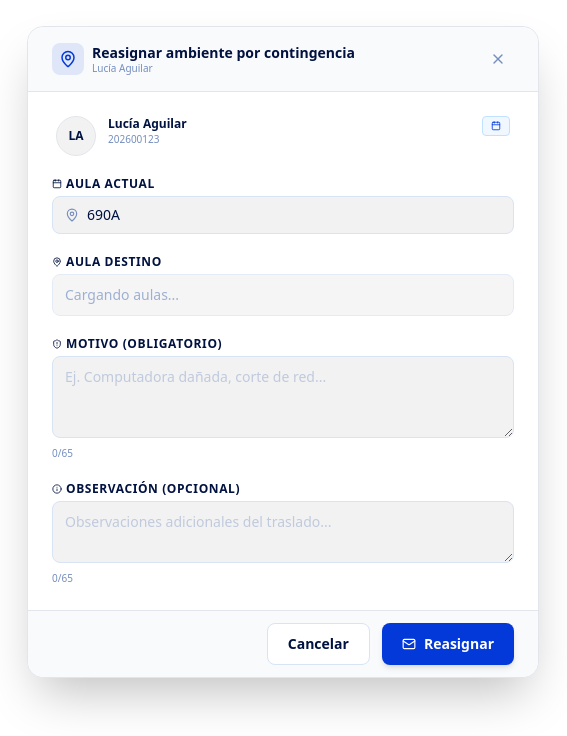
it: INCI-03: el motivo de menos de 10 caracteres no se envía
Select "690B" in the dropdown at (283,295), box [52, 274, 514, 316]
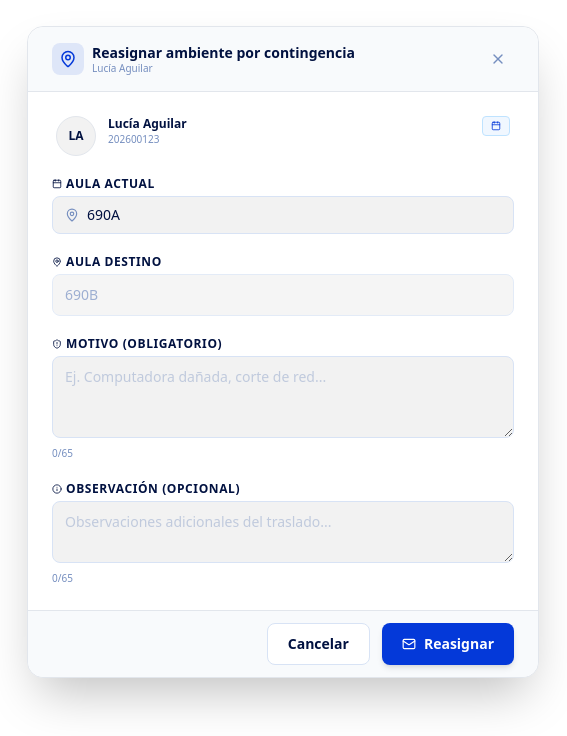
Type "Red caída" into the text box with placeholder "Ej. Computadora dañada, corte de red...".
click(283, 397); type("Red caída")  # box [52, 356, 514, 438]
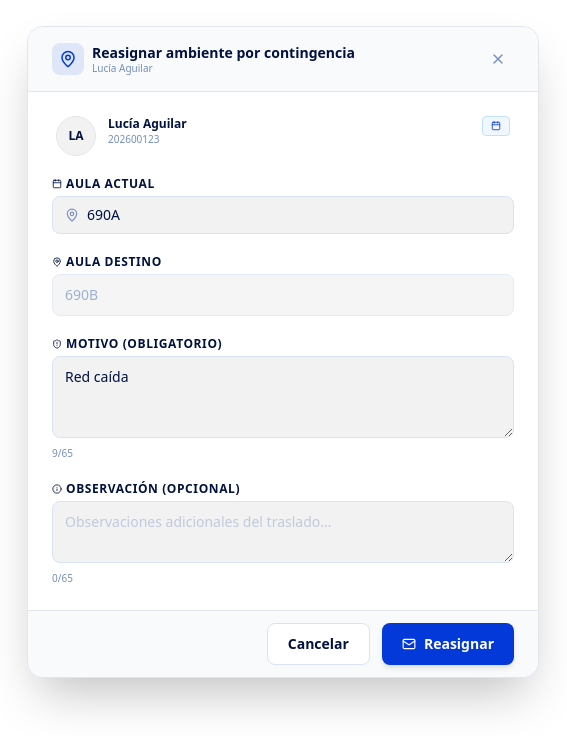
Click the button "Reasignar".
click(448, 644)  # box [382, 623, 514, 665]
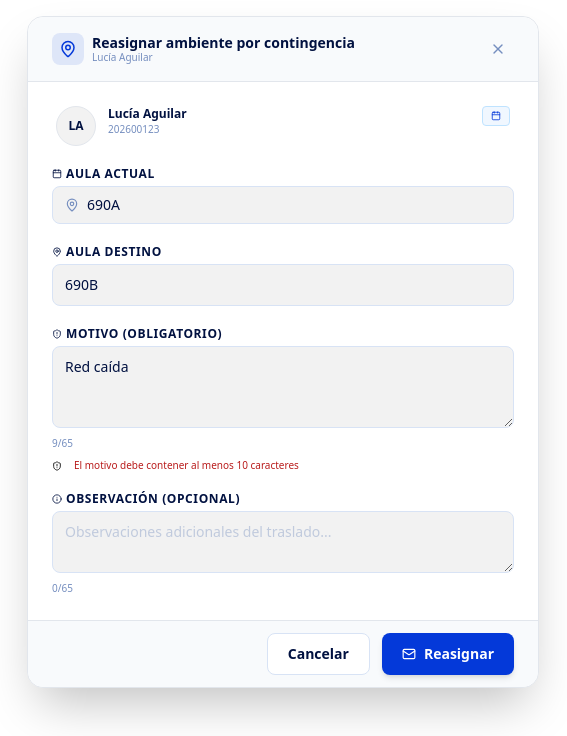
Expected: the text "El motivo debe contener al menos 10 caracteres" is shown, [62, 459, 299, 471]
